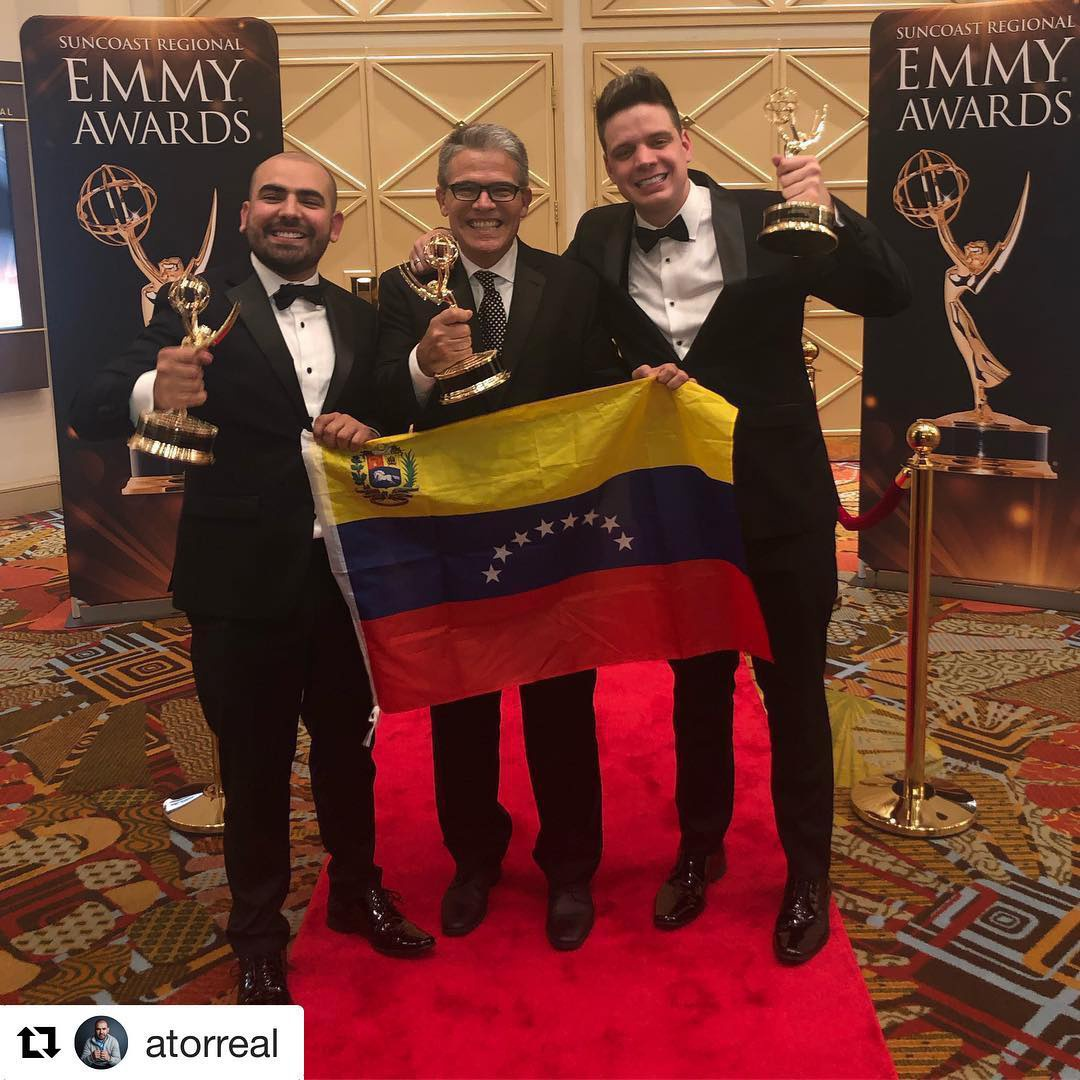hand: (769, 158, 836, 215)
